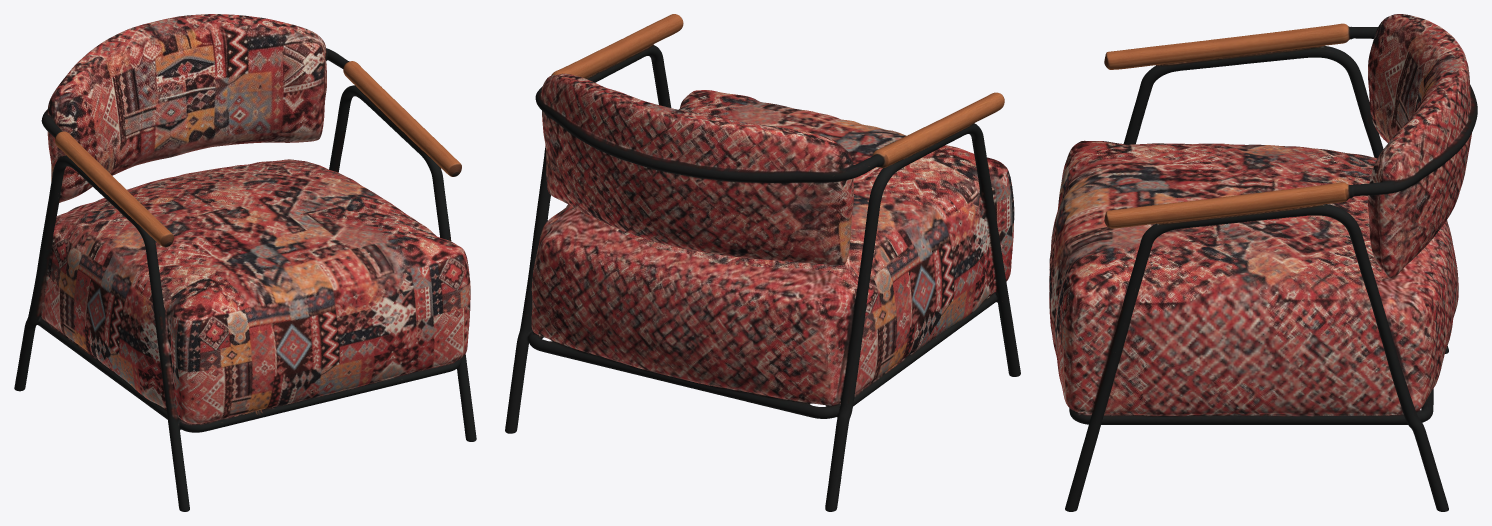
The model's file is chair2-source.glb.
The picture shows the model from 3 angles, left to right: view 1: azimuth 30°, elevation 25°; view 2: azimuth 150°, elevation 25°; view 3: azimuth 270°, elevation 25°; orthographic projection. The views are drawn at different scales.
Visible parts, largest first — view 1: SeatCushion, ChairBase, SeatBack; view 2: ChairBase, SeatCushion, SeatBack; view 3: SeatCushion, ChairBase, SeatBack.
Part boxes in pixels (bbox=[...]): SeatCushion: bbox=[14, 153, 465, 422]; ChairBase: bbox=[25, 14, 476, 511]; SeatBack: bbox=[45, 14, 326, 202]; ChairBase: bbox=[535, 14, 1020, 422]; SeatCushion: bbox=[505, 90, 976, 511]; SeatBack: bbox=[550, 73, 853, 251]; SeatCushion: bbox=[1049, 139, 1458, 511]; ChairBase: bbox=[1063, 14, 1477, 511]; SeatBack: bbox=[1359, 14, 1459, 275].
Bounding box in the file's own units: 1.75 × 1.81 × 1.9.
Materials: 1 (1 with a texture image).
